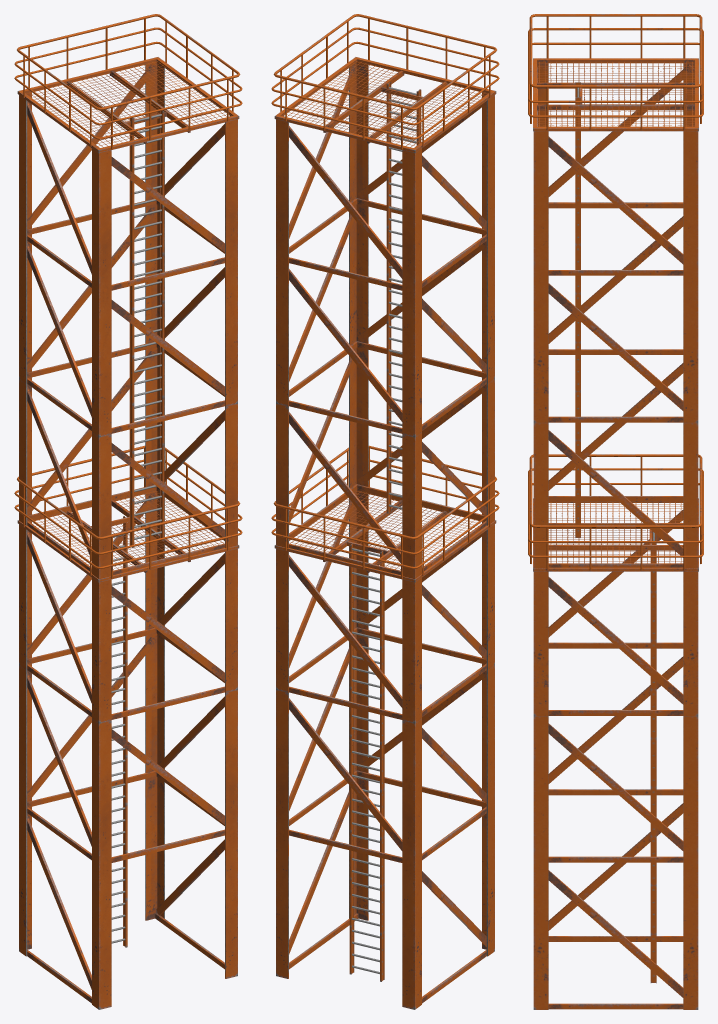
File: CraneLegSectionPrefab_01.fbx
3 views of the same model, side by side, from view 1: azimuth 30°, elevation 25°; view 2: azimuth 150°, elevation 25°; view 3: azimuth 270°, elevation 25° (orthographic). The views are drawn at different scales.
Visible parts, largest first — view 1: Crane_Leg_Section_Prefab_01_LOD0; view 2: Crane_Leg_Section_Prefab_01_LOD0; view 3: Crane_Leg_Section_Prefab_01_LOD0.
Boxes of the visible parts, x1,y1,x2,y2 form: Crane_Leg_Section_Prefab_01_LOD0: [14, 14, 242, 1009]; Crane_Leg_Section_Prefab_01_LOD0: [271, 14, 499, 1009]; Crane_Leg_Section_Prefab_01_LOD0: [528, 14, 703, 1009].
Size of what is drawn, in the model's own units: 3.23 by 18.92 by 3.26.
